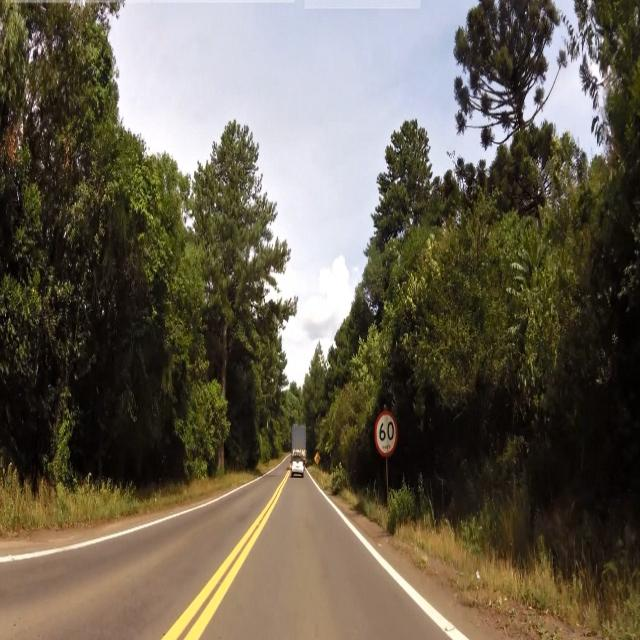R-19: (372, 408, 402, 461)
